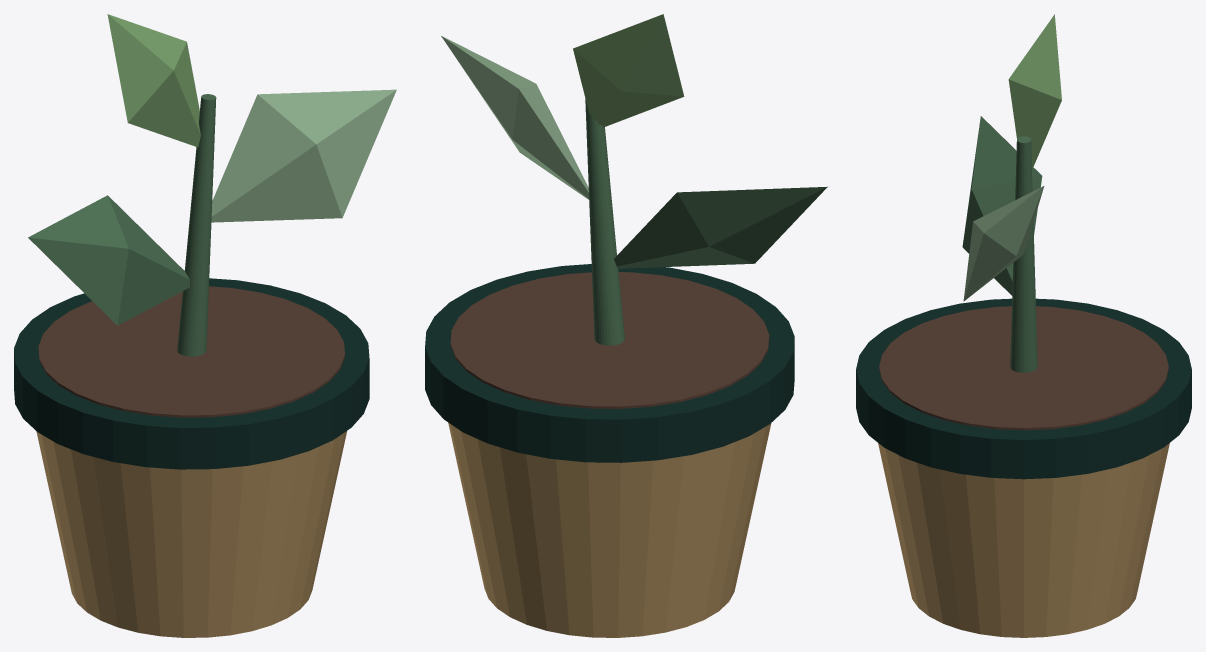
The model's file is pot.glb.
3 views of the same model, side by side, from view 1: azimuth 30°, elevation 25°; view 2: azimuth 150°, elevation 25°; view 3: azimuth 270°, elevation 25° (orthographic). The views are drawn at different scales.
Parts seen in each view (by area): view 1: ceramic pot, soil, rim, leaf 2, leaf 1, leaf 3, stem; view 2: ceramic pot, soil, rim, leaf 1, leaf 3, leaf 2, stem; view 3: ceramic pot, soil, rim, leaf 3, leaf 2, leaf 1, stem.
Boxes of the visible parts, left/top/right/bottom form: ceramic pot: left=36, top=431, right=346, bottom=637; soil: left=38, top=286, right=344, bottom=417; rim: left=14, top=278, right=369, bottom=469; leaf 2: left=211, top=89, right=396, bottom=222; leaf 1: left=28, top=195, right=190, bottom=325; leaf 3: left=107, top=14, right=200, bottom=147; stem: left=177, top=94, right=216, bottom=356; ceramic pot: left=448, top=422, right=771, bottom=637; soil: left=450, top=272, right=769, bottom=408; rim: left=425, top=264, right=794, bottom=462; leaf 1: left=614, top=186, right=827, bottom=268; leaf 3: left=573, top=14, right=684, bottom=127; leaf 2: left=441, top=36, right=589, bottom=199; stem: left=585, top=99, right=624, bottom=345; ceramic pot: left=878, top=443, right=1169, bottom=637; soil: left=879, top=306, right=1168, bottom=430; rim: left=856, top=298, right=1191, bottom=479; leaf 3: left=1008, top=14, right=1061, bottom=169; leaf 2: left=963, top=186, right=1044, bottom=301; leaf 1: left=962, top=116, right=1042, bottom=295; stem: left=1010, top=136, right=1037, bottom=372.
Bounding box in the file's own units: 1.31 × 1.95 × 1.09.
